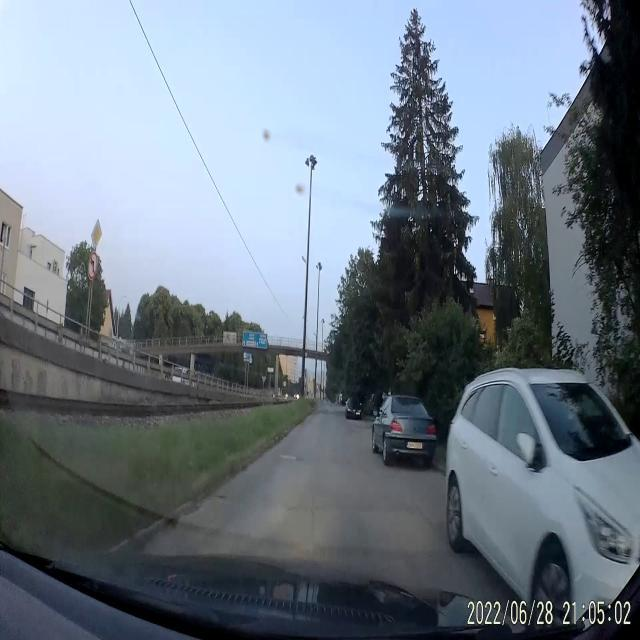Pothole: (278, 449, 300, 465)
